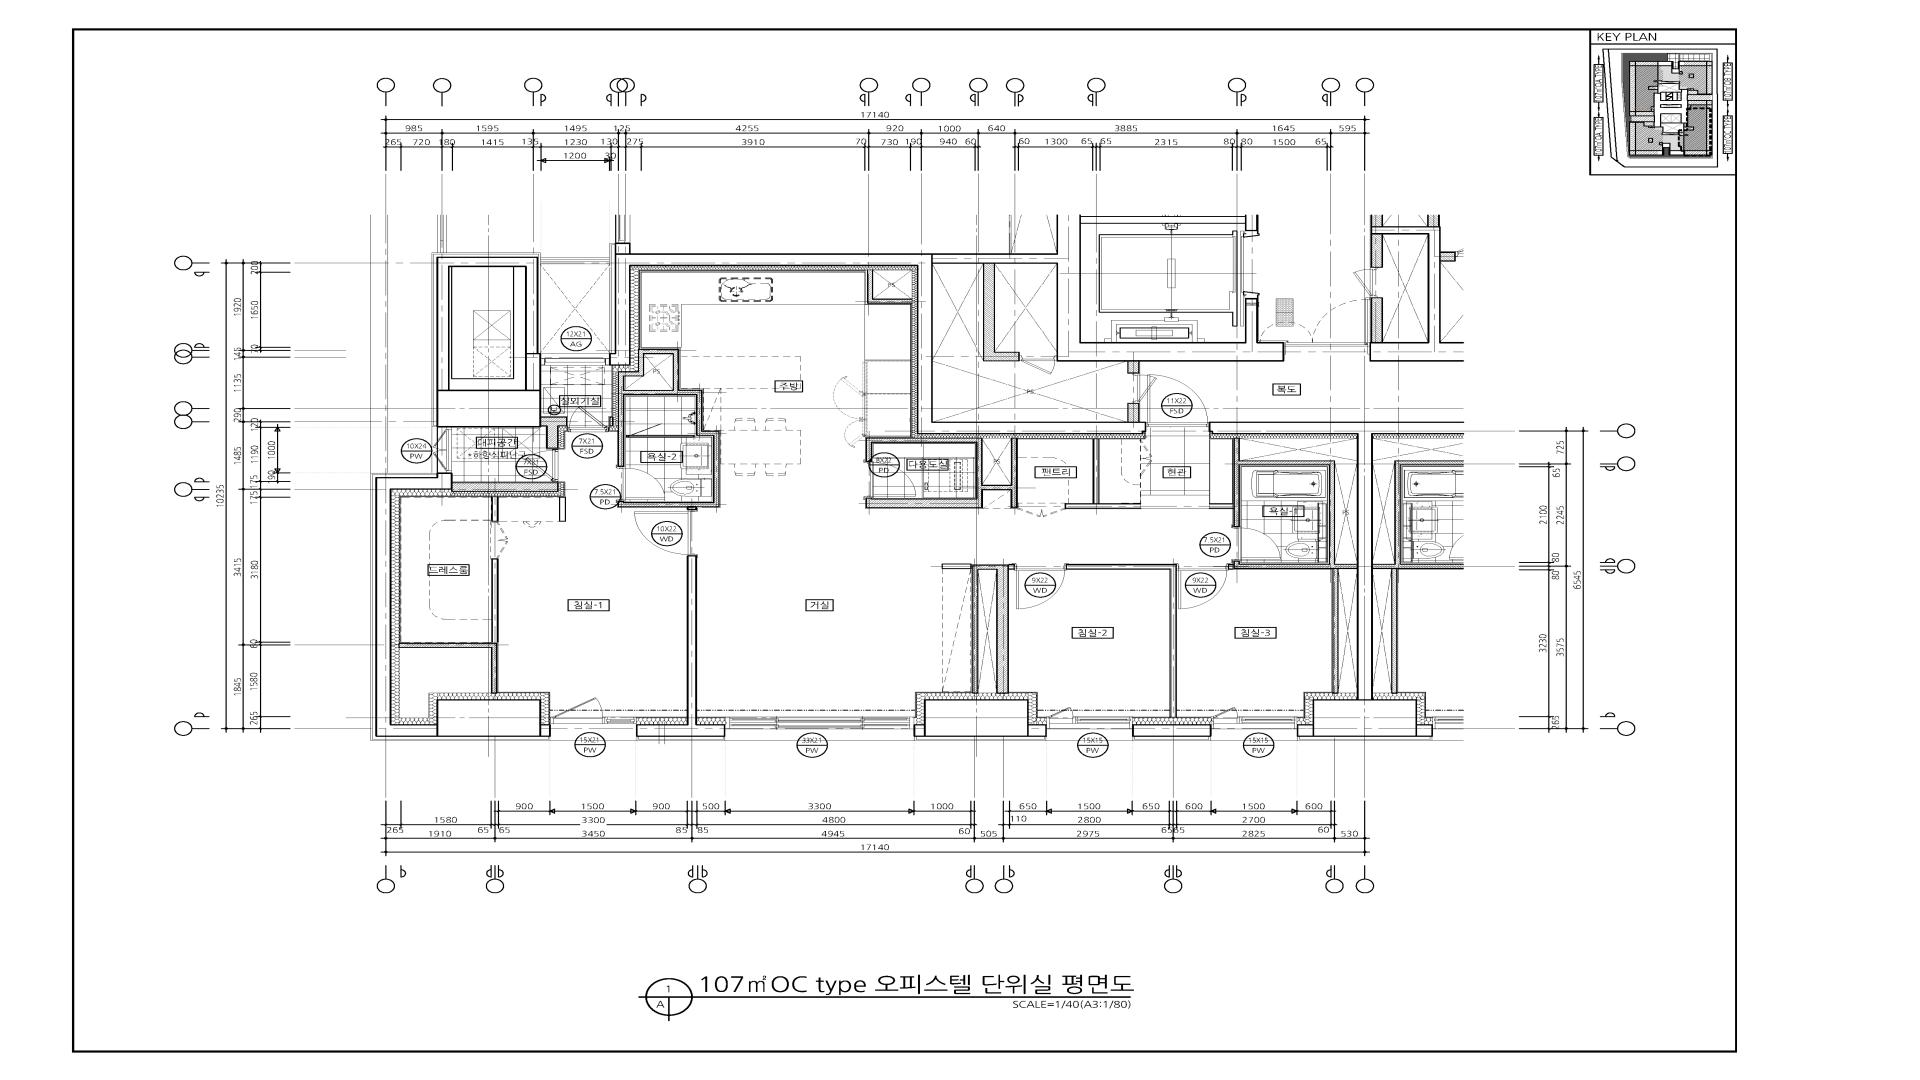door: (1146, 375, 1209, 427), (634, 510, 696, 555), (1014, 564, 1065, 611), (1176, 564, 1228, 609), (865, 462, 915, 498), (1233, 526, 1280, 560), (617, 467, 665, 501), (524, 448, 558, 483), (567, 405, 609, 433), (1018, 502, 1065, 518), (491, 521, 508, 559), (625, 423, 663, 438)
wall: (609, 253, 1146, 434), (1208, 422, 1373, 737), (376, 473, 550, 737), (1209, 438, 1357, 694), (436, 257, 541, 427), (1065, 564, 1176, 717), (618, 349, 720, 510), (637, 555, 725, 737), (398, 559, 498, 694), (865, 438, 1018, 508), (942, 563, 1014, 694), (1065, 439, 1141, 509), (914, 699, 1047, 737), (624, 355, 673, 390), (866, 270, 913, 303), (1133, 724, 1211, 737), (451, 483, 559, 492), (541, 417, 567, 448), (491, 497, 498, 522), (559, 497, 566, 522), (663, 435, 695, 438), (609, 417, 613, 426)
window: (725, 717, 914, 737), (550, 696, 605, 737), (1240, 716, 1298, 737), (1075, 716, 1133, 737), (431, 427, 452, 472), (1211, 707, 1240, 737), (1047, 707, 1075, 737), (541, 353, 609, 365), (605, 717, 637, 737)
